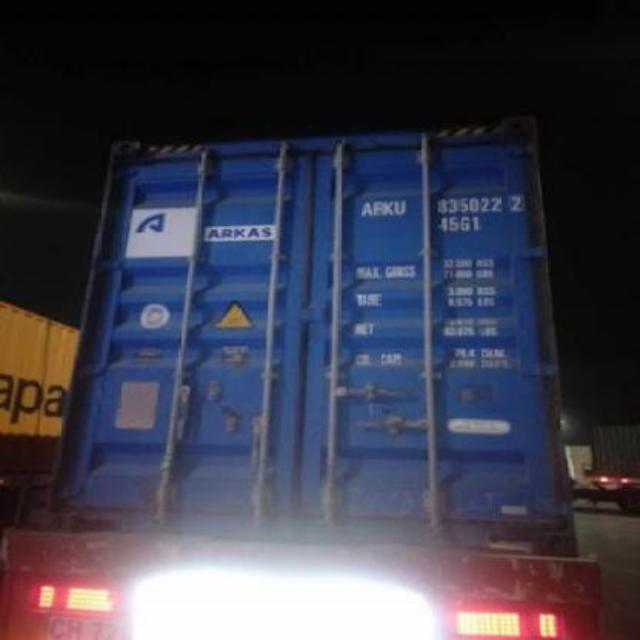0: (470, 198, 480, 212)
2: (510, 194, 522, 210), (480, 196, 490, 212), (492, 195, 502, 211)
3: (448, 198, 458, 212)
5: (460, 198, 468, 214)
8: (436, 198, 448, 214)
A: (361, 199, 374, 217)
K: (384, 200, 394, 216)
R: (374, 201, 384, 217)
U: (394, 198, 408, 214)
